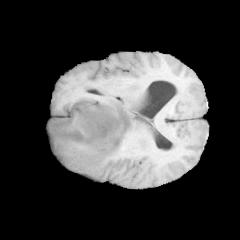glioma: (49, 96, 133, 176)
